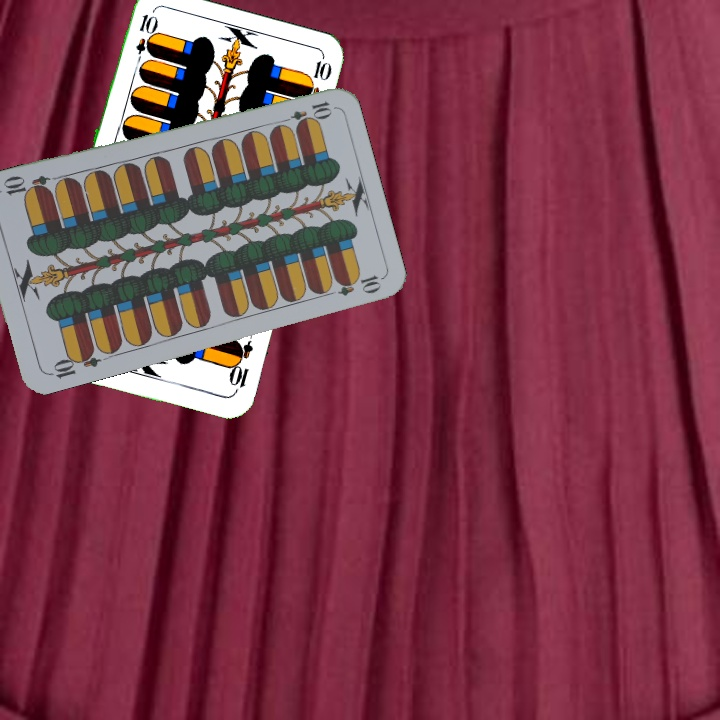E10: (44, 345, 103, 381), (225, 337, 256, 396), (276, 97, 334, 128), (131, 10, 158, 69)
